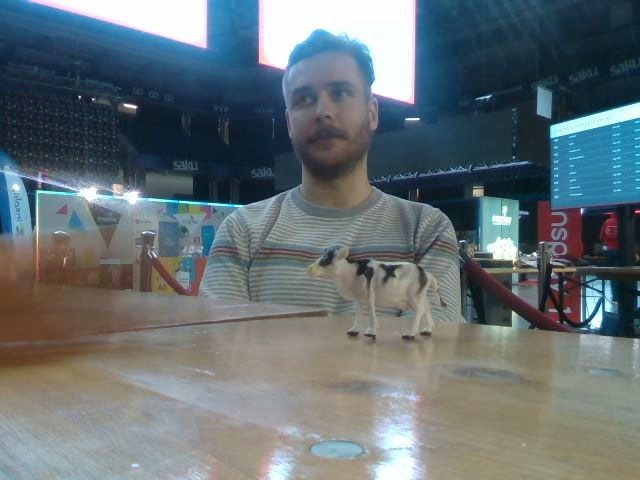toy: (305, 244, 447, 341)
